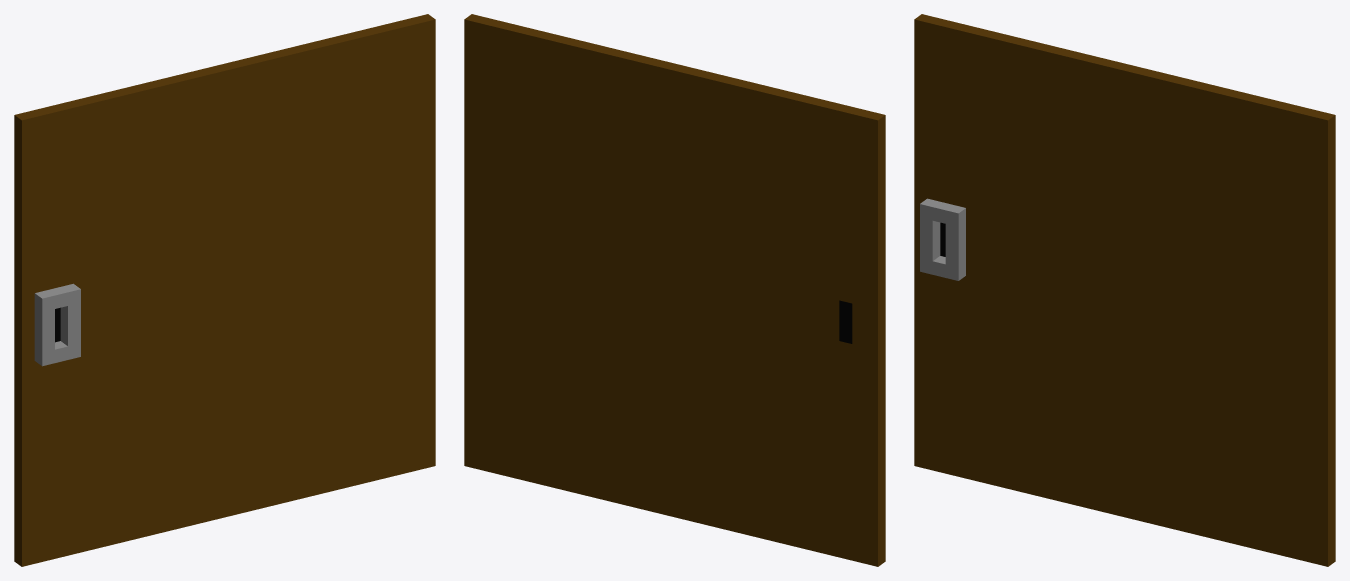
File: Shelf.vox-0.obj
The picture shows the model from 3 angles, left to right: view 1: azimuth 30°, elevation 25°; view 2: azimuth 150°, elevation 25°; view 3: azimuth 330°, elevation 25°; orthographic projection.
Size of the model in its own units: 3.2 by 3.3 by 0.2.
1 material, 1 textured.
